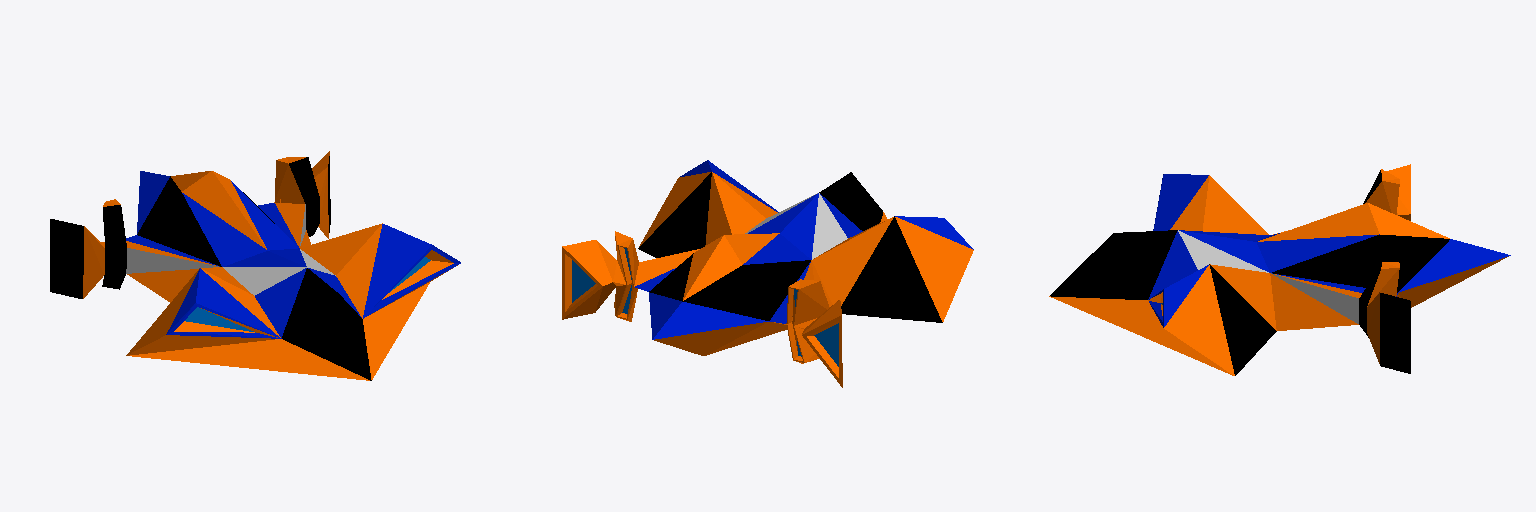
Rendered from Bombardier.obj.
3 views of the same model, side by side, from view 1: azimuth 30°, elevation 25°; view 2: azimuth 150°, elevation 25°; view 3: azimuth 270°, elevation 25° (orthographic).
Visible parts, largest first — view 1: Cube_Cube.001; view 2: Cube_Cube.001; view 3: Cube_Cube.001.
Part boxes in pixels (x1,y1,x2,y2): Cube_Cube.001: (50,151,460,380); Cube_Cube.001: (562,160,973,387); Cube_Cube.001: (1049,164,1510,375).
Size of the model in its own units: 11.94 by 3.99 by 15.68.